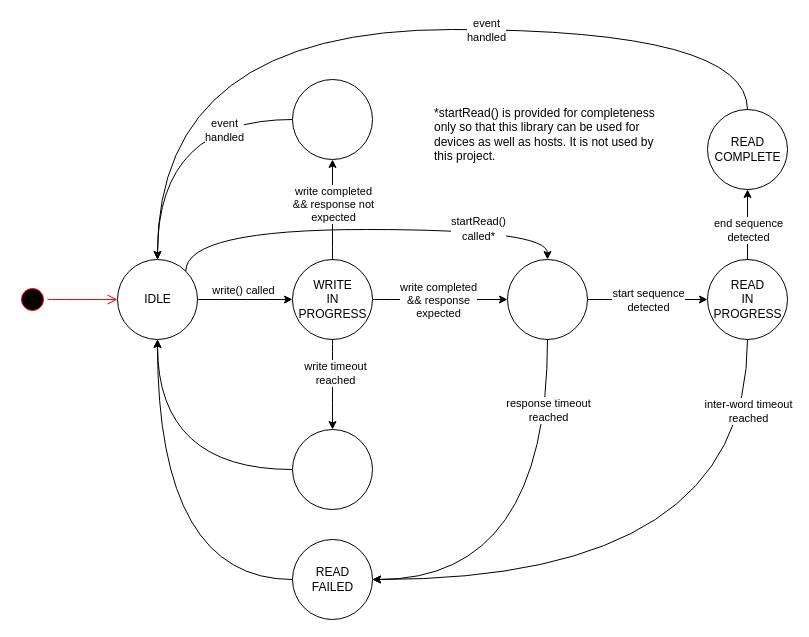
Some shapes in this 809 by 637 pixel diagram are drawn without their labels. Here are the shapes that lost their labels. From the top down, the centre of each, then its label:
(332,119): WRITE COMPLETE
(547,299): WAITING FOR READ START
(332,469): WRITE FAILED
